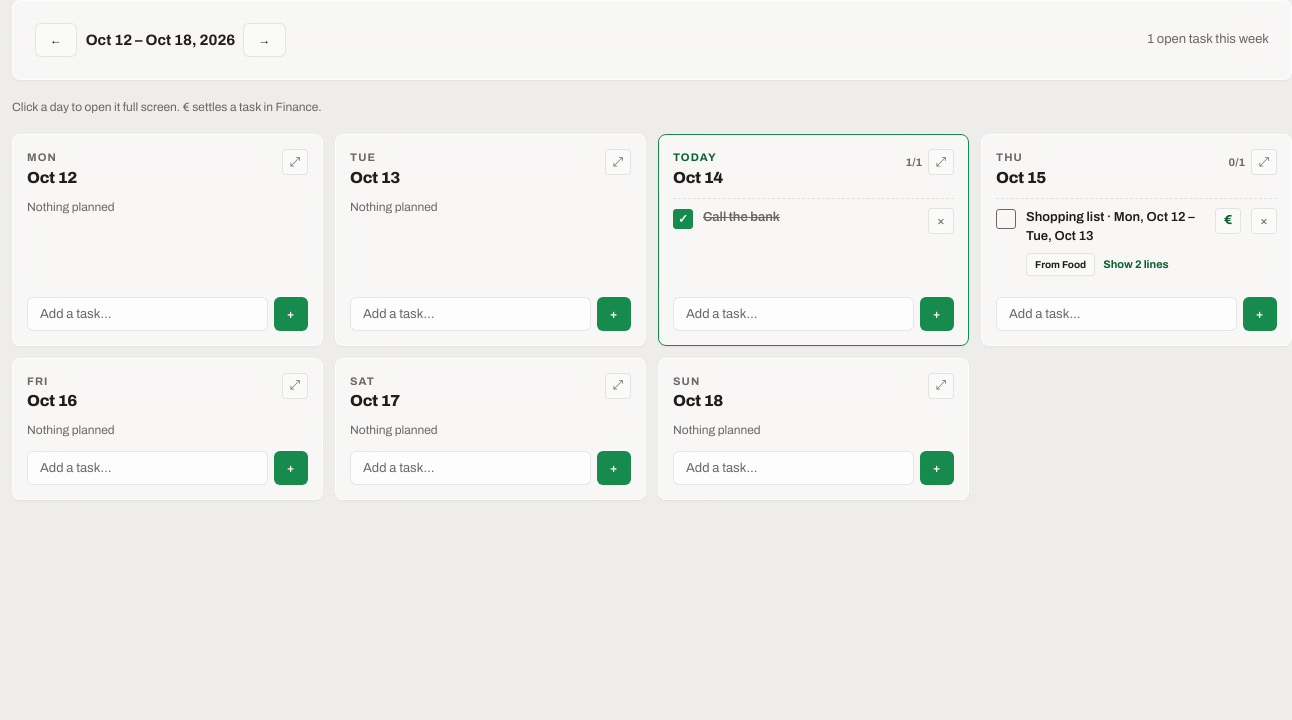
Test case: Plans week › browses previous and next weeks
expect the element with test id "plan-day-2026-10-12" is shown: met, box [12,134,323,346]
Click the button named "Next week": (265,40) [244,23,286,57]
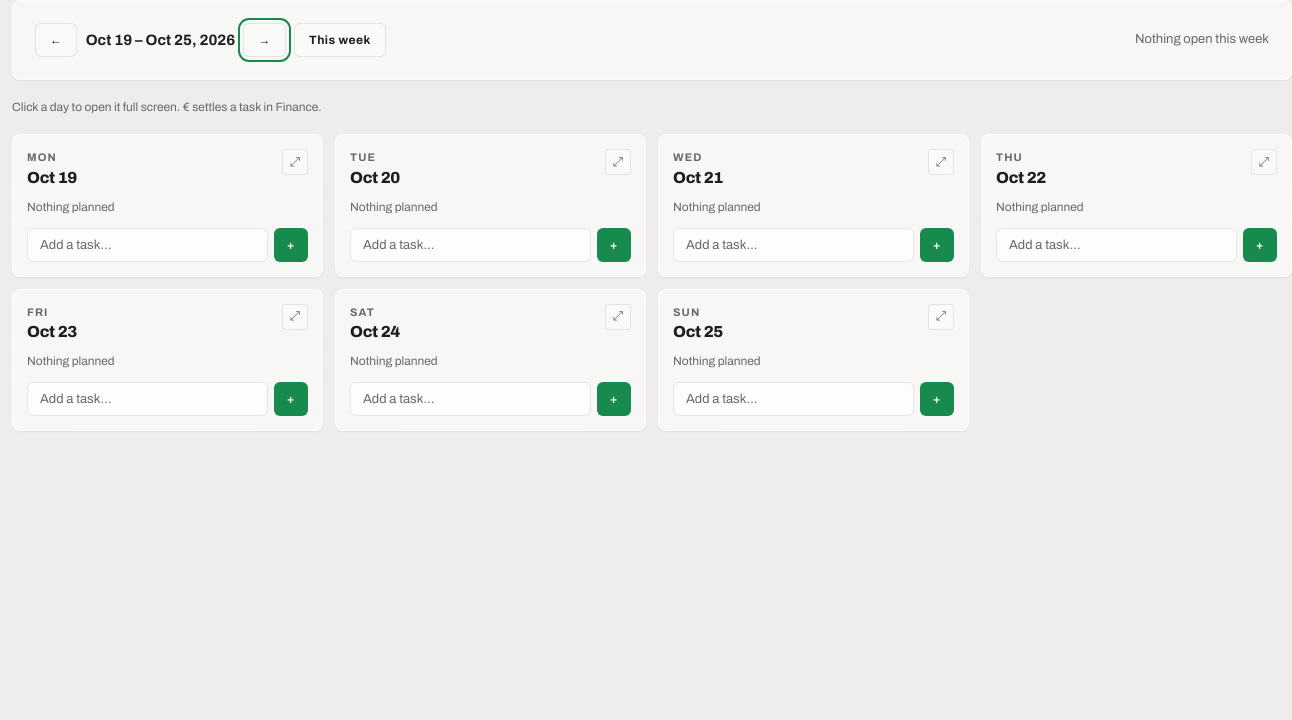
expect the element with test id "plan-day-2026-10-25" is shown: met, box [658,288,969,431]
expect the text "Call the bank" is gone: met
Click the button named "Previous week": (56,40) [35,23,78,57]
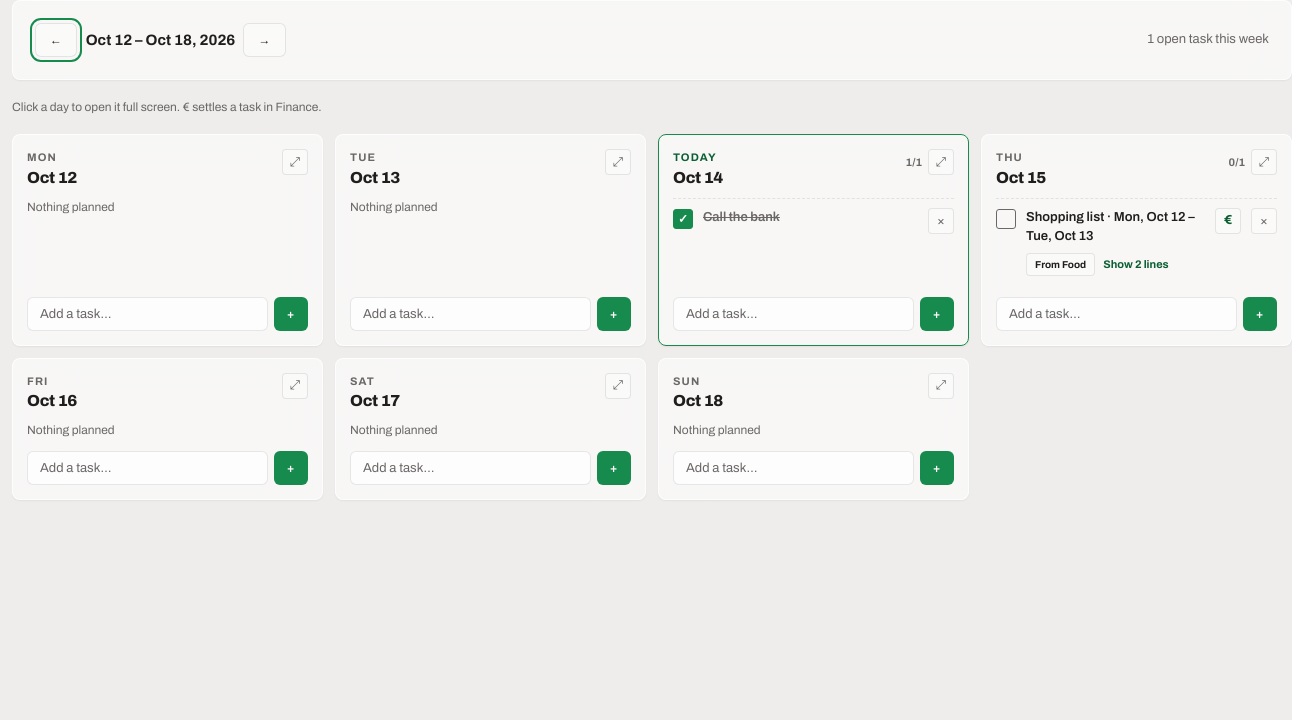
Click the button named "Previous week": (56,40) [35,23,78,57]
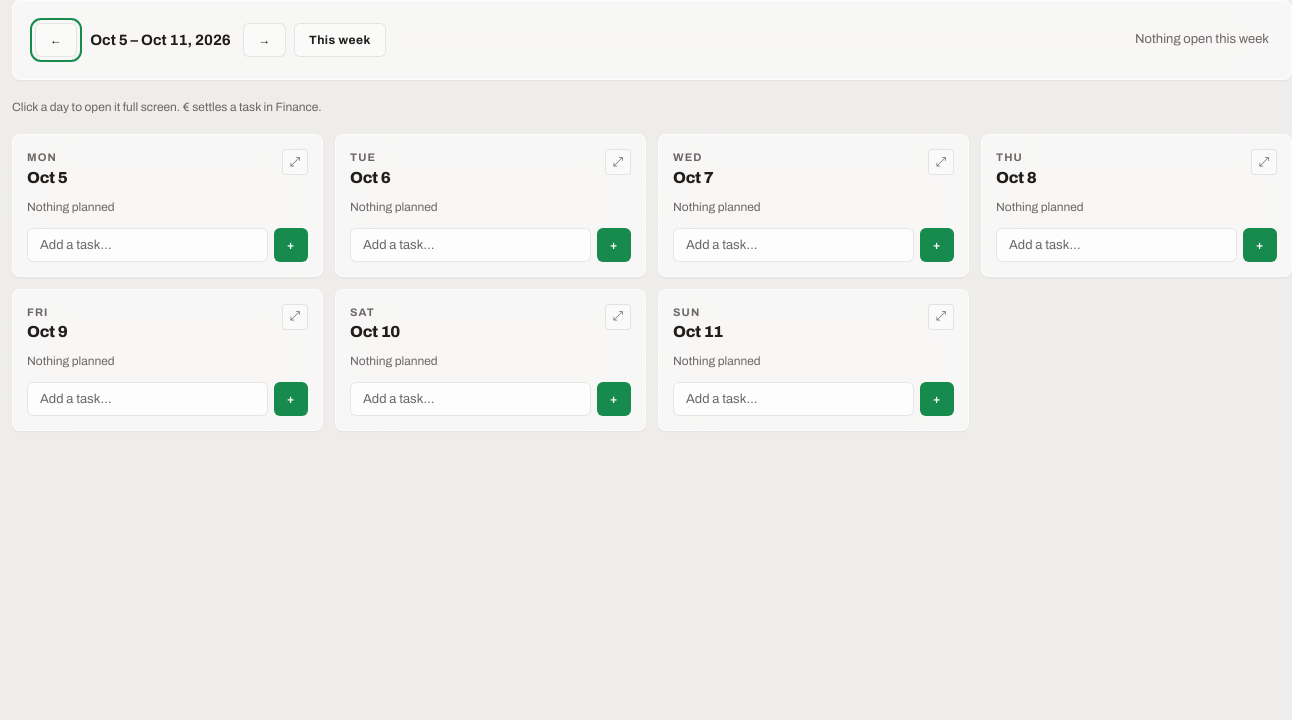
expect the element with test id "plan-day-2026-10-05" is shown: met, box [12,134,323,276]
